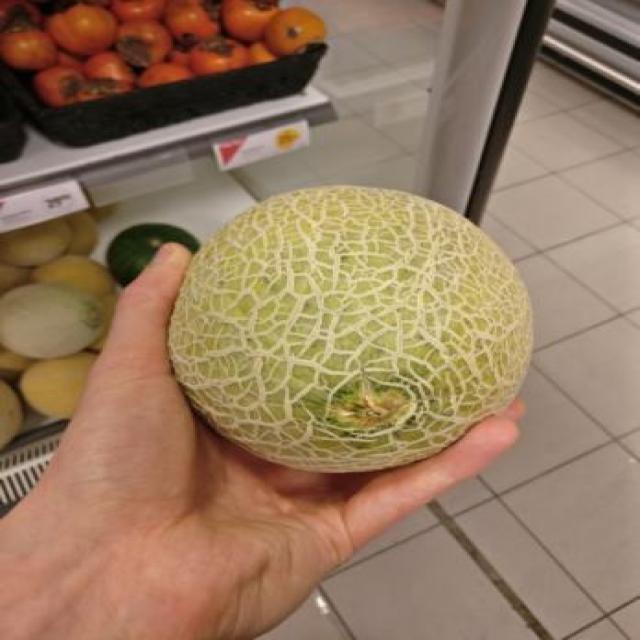Cantaloupe: (170, 185, 534, 473)
